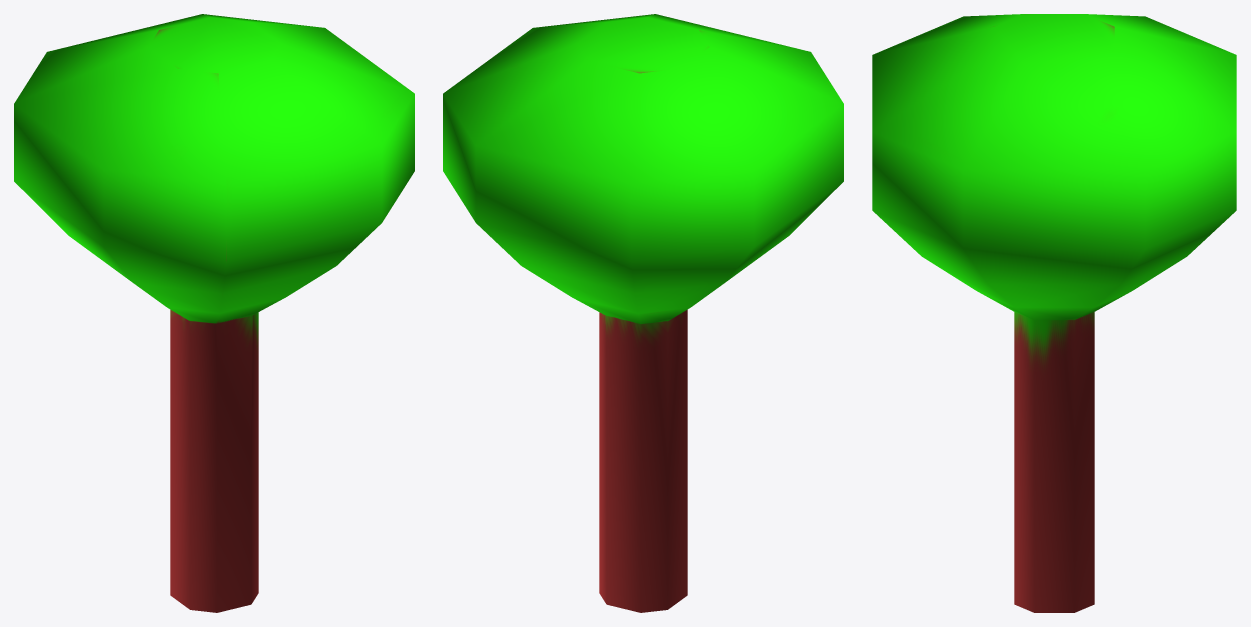
The model's file is tree.obj.
3 views of the same model, side by side, from view 1: azimuth 30°, elevation 25°; view 2: azimuth 150°, elevation 25°; view 3: azimuth 270°, elevation 25° (orthographic).
Parts seen in each view (by area): view 1: Cube; view 2: Cube; view 3: Cube.
Part boxes in pixels (bbox=[...]): Cube: bbox=[14, 14, 414, 612]; Cube: bbox=[443, 14, 843, 612]; Cube: bbox=[872, 14, 1236, 612].
Bounding box in the file's own units: 1.86 × 3.14 × 1.86.
